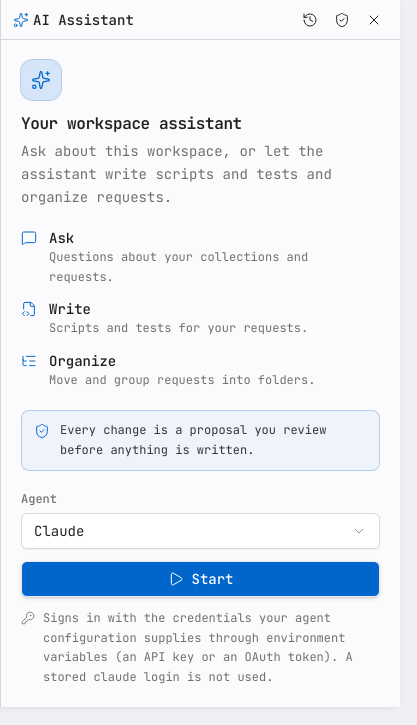
Test: AssistantPanel › starts a session with the first agent and shows the message box
Click the button "Start": (200,579) [21,561,380,597]
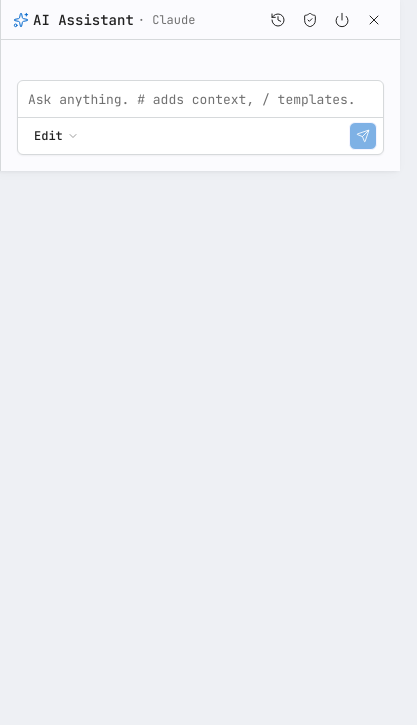
Expected: the field named "Message the AI assistant" is shown, [28,91,356,108]
